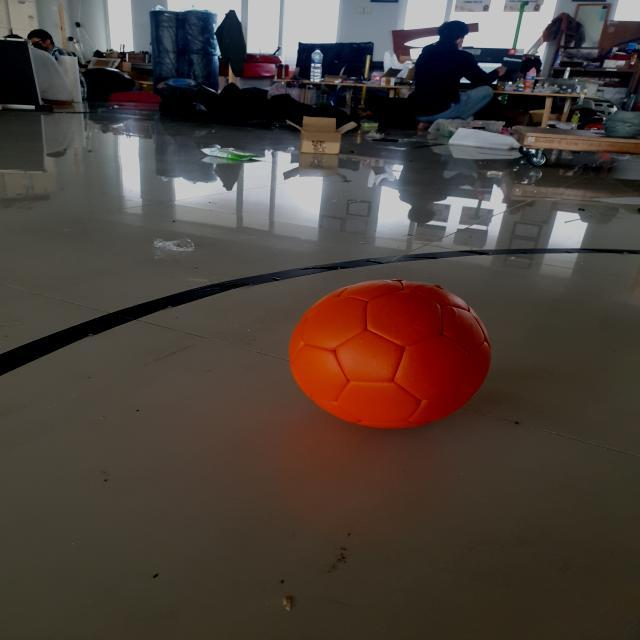bola: (278, 268, 506, 437)
